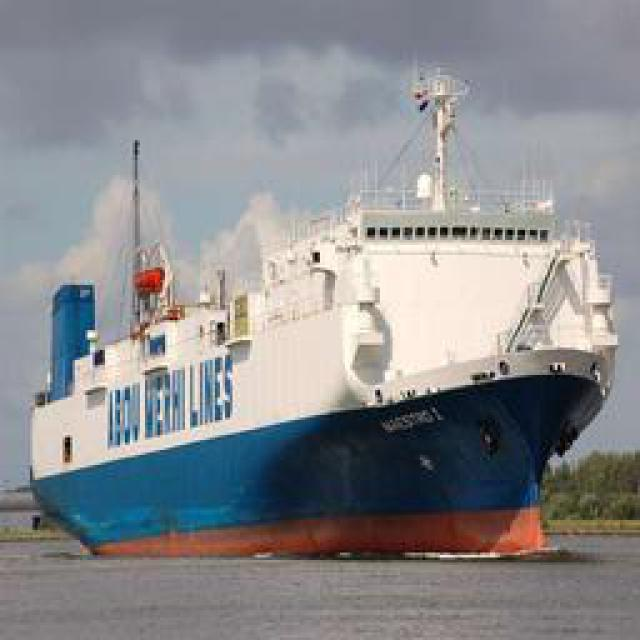Ship: (29, 61, 612, 551)
